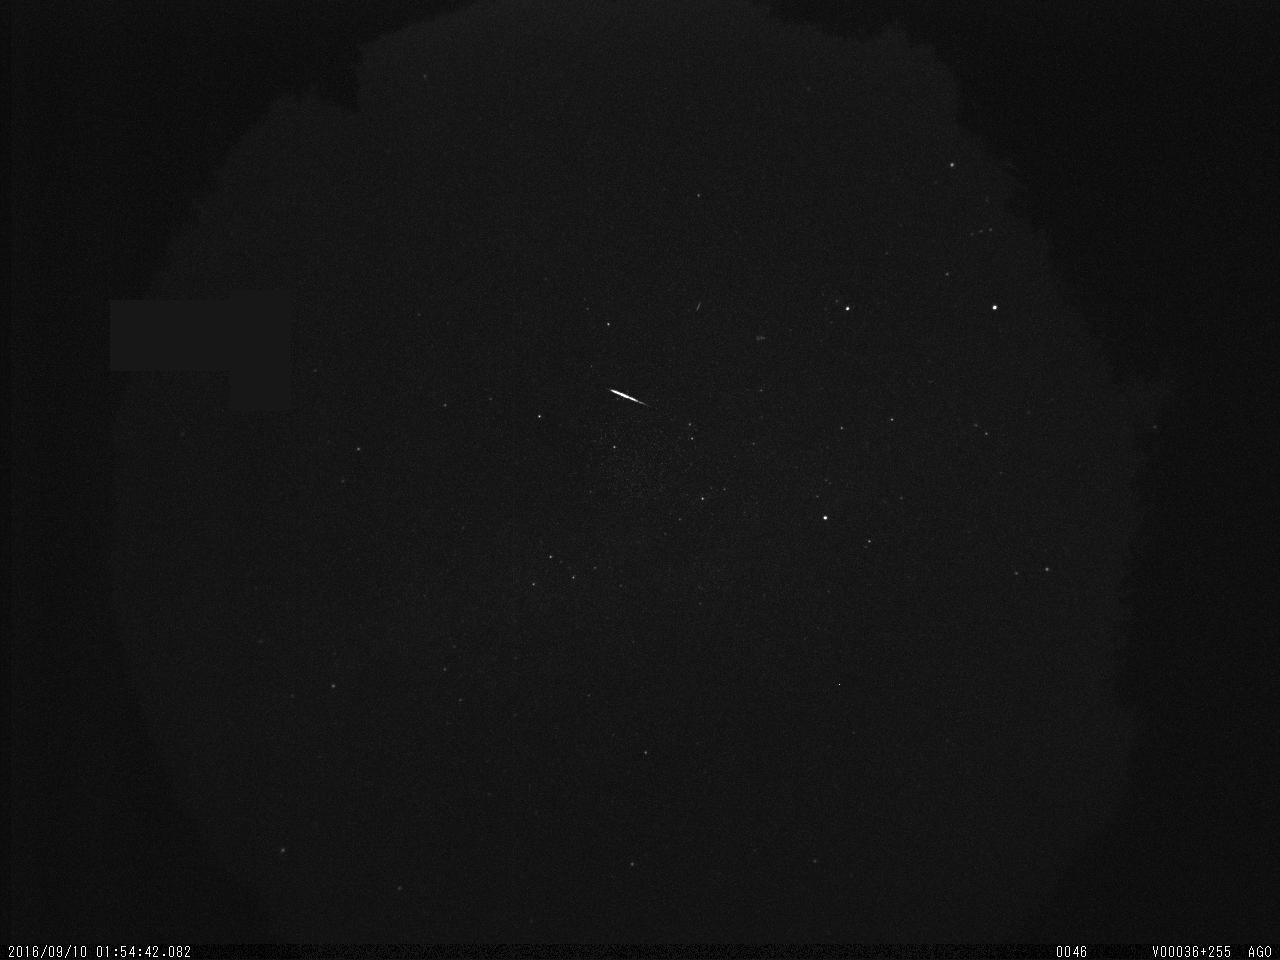meteor: (599, 370, 655, 425)
